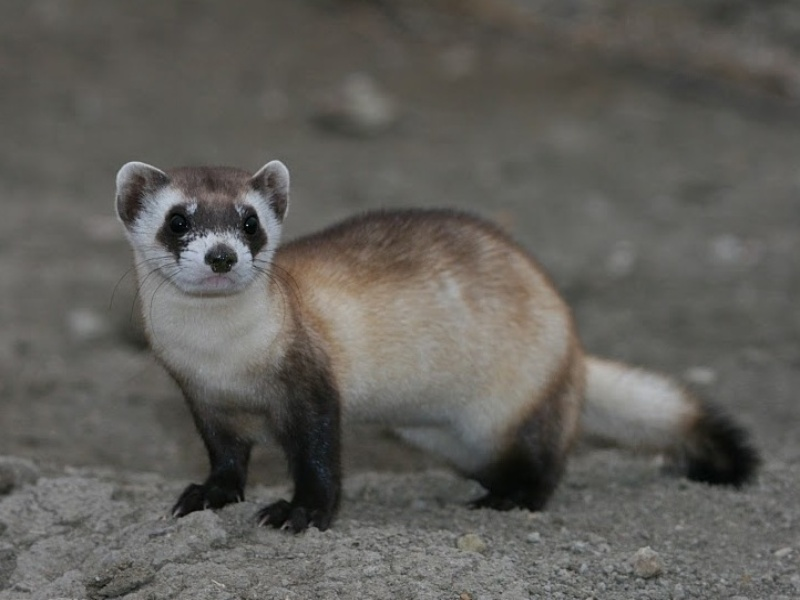minkish: (108, 153, 765, 536)
